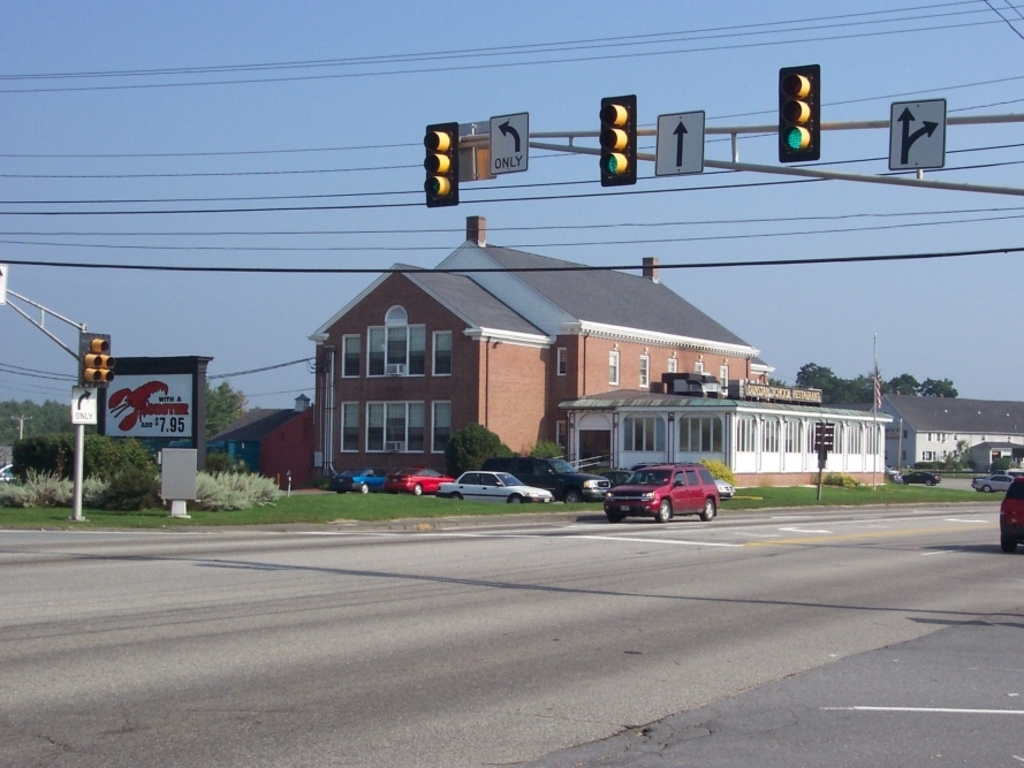green_light: (600, 150, 623, 177), (783, 124, 803, 149)
right_turn: (74, 386, 94, 414)
